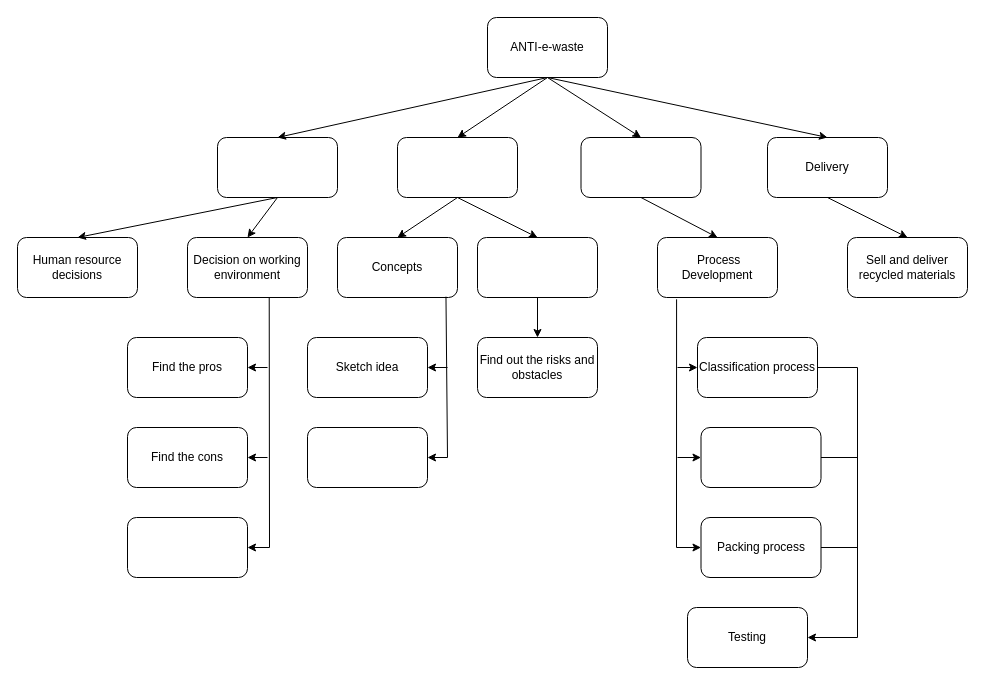
Some shapes in this 985 by 685 pixel diagram are drawn without their labels. Each missing label, with the centre of its shape:
"Cases" goes at [537,267].
"Construction" goes at [640,167].
"Draw detailed wireframes" goes at [367,457].
"Find the decision and future potential" goes at [187,547].
"Inception" goes at [277,167].
"Planning" goes at [457,167].
"Recycling process" goes at [760,457].
